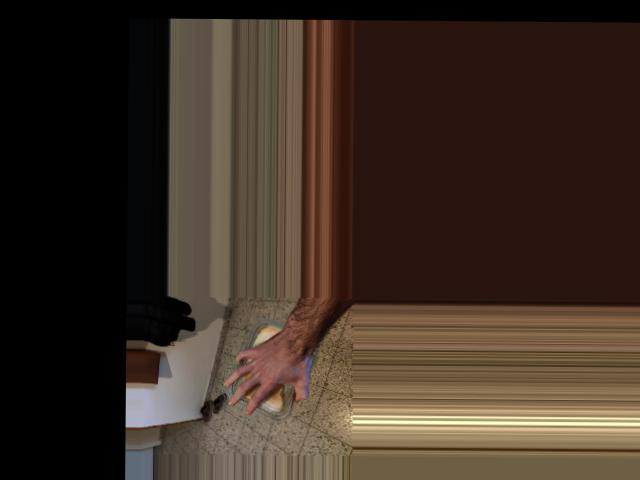cheese: (225, 322, 318, 417)
